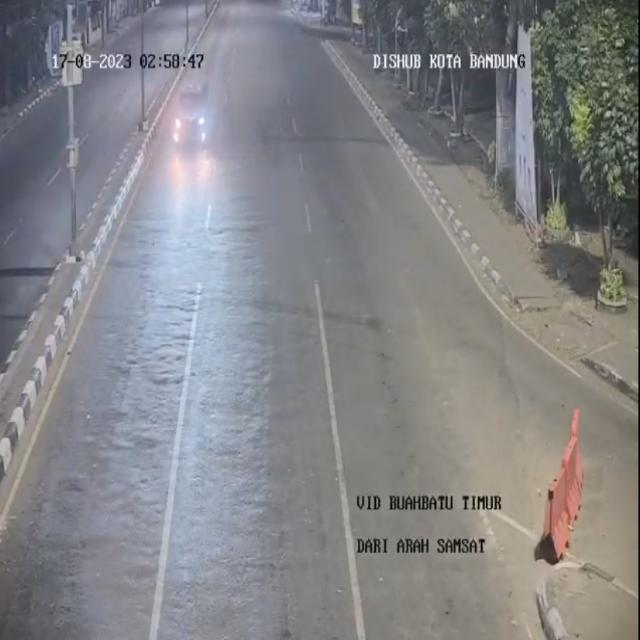cars: (170, 74, 210, 152)
